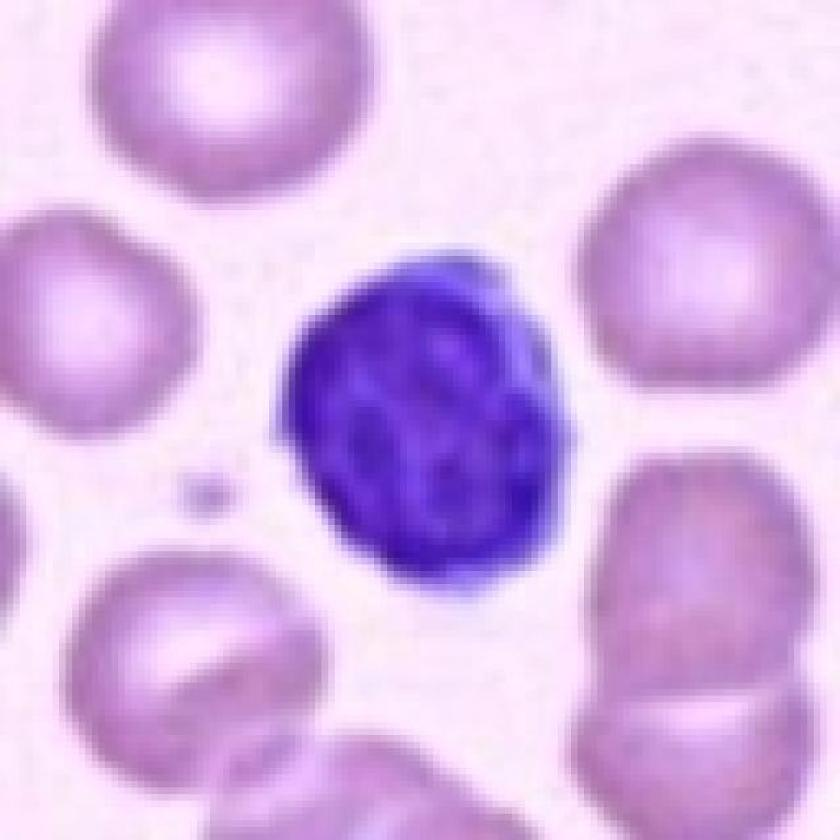lymphocyte: (268, 243, 587, 596)
